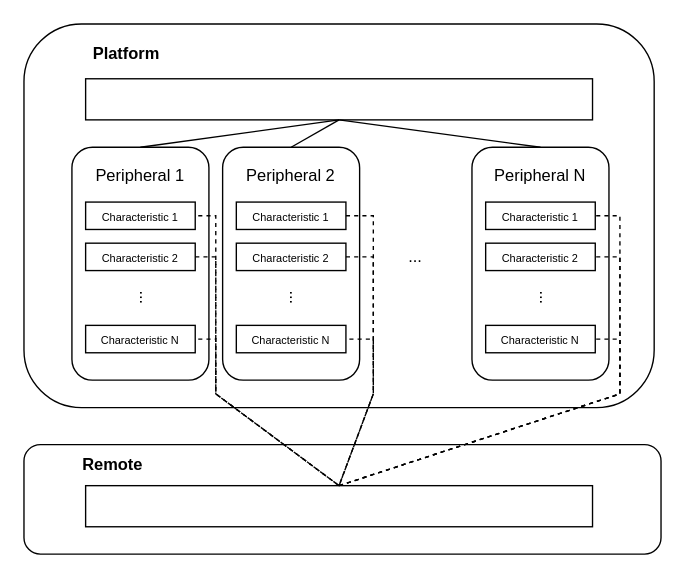
This 685x578 diagram has some shape labels left out. The centre of each missing label's shape, as x and y in pixels:
"Client" goes at point (338, 505).
"Service" goes at point (338, 98).
